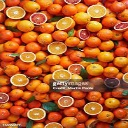orange: (6, 73, 31, 88), (24, 107, 49, 121), (5, 5, 27, 20), (55, 94, 74, 107), (34, 82, 50, 94)
